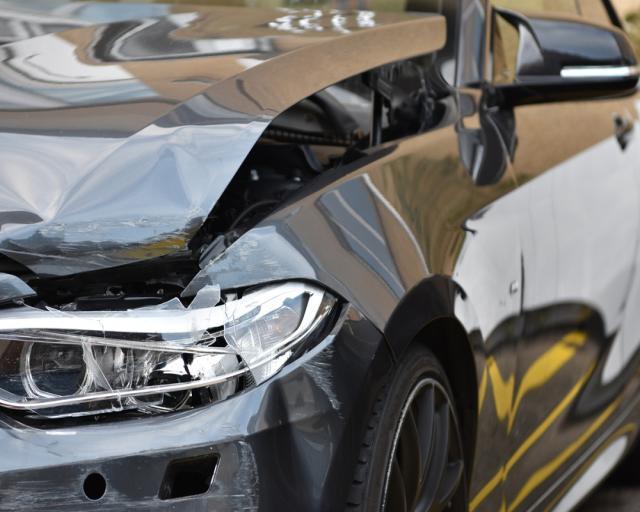dent: (0, 140, 192, 239), (255, 367, 342, 499)
lamp broken: (0, 283, 343, 427)
scratch: (0, 442, 259, 512), (0, 205, 207, 278), (200, 232, 297, 288), (300, 341, 335, 398)
